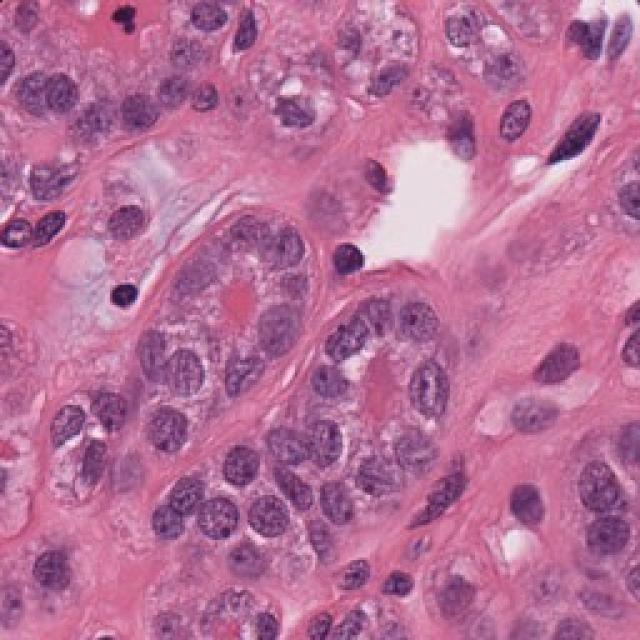abnormal: (560, 431, 640, 538), (6, 49, 98, 133), (211, 322, 285, 413), (408, 335, 465, 451), (383, 270, 456, 360), (247, 201, 314, 288), (191, 485, 252, 555), (161, 338, 214, 418), (110, 79, 170, 149), (125, 308, 176, 389), (218, 431, 274, 498)
